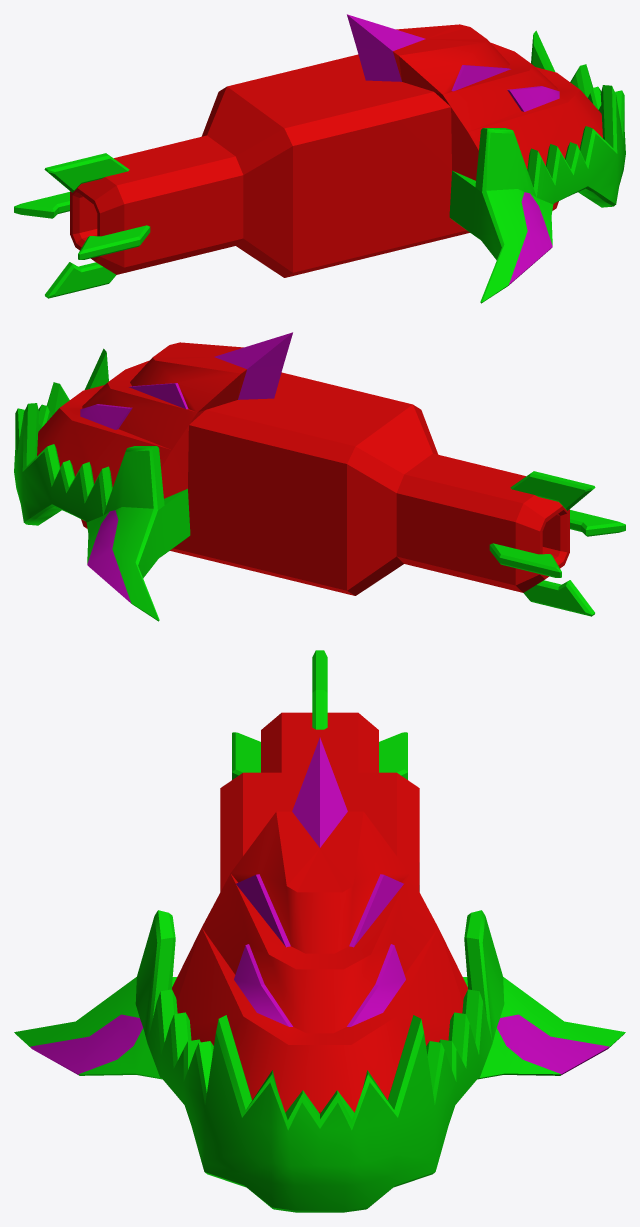
Rendered from MeMissile.FBX.
3 renders of one model, top to bottom at view 1: azimuth 30°, elevation 25°; view 2: azimuth 150°, elevation 25°; view 3: azimuth 270°, elevation 25°, orthographic. The views are drawn at different scales.
Parts seen in each view (by area): view 1: Plane004; view 2: Plane004; view 3: Plane004.
Part boxes in pixels (bbox=[...]): Plane004: bbox=[14, 14, 625, 303]; Plane004: bbox=[14, 332, 625, 621]; Plane004: bbox=[14, 650, 625, 1212].
Size of the model in its own units: 47.63 by 18.53 by 33.22.
